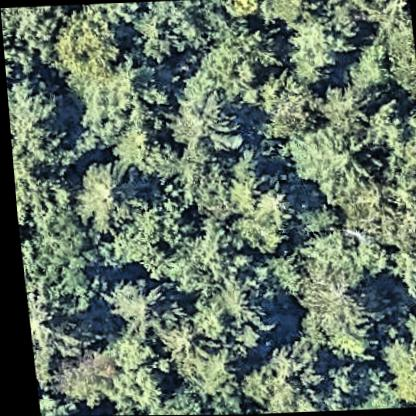tree-top: (16, 208, 100, 310), (155, 222, 261, 300), (102, 196, 195, 277), (75, 69, 171, 147), (183, 25, 274, 100), (231, 337, 317, 415), (5, 75, 70, 175), (166, 85, 242, 165), (292, 270, 374, 344), (181, 285, 273, 350), (48, 4, 127, 79), (285, 124, 366, 197), (253, 70, 327, 144), (187, 151, 262, 222), (360, 97, 416, 190), (45, 340, 118, 409), (75, 161, 141, 234), (231, 186, 296, 256), (123, 7, 187, 78), (0, 5, 62, 71), (284, 18, 354, 75), (11, 166, 74, 227), (316, 362, 392, 411), (22, 303, 90, 357), (108, 274, 164, 338), (168, 0, 243, 46), (315, 81, 374, 139), (176, 337, 236, 394), (364, 192, 416, 255), (143, 140, 206, 188), (96, 366, 158, 414), (381, 16, 416, 99), (347, 33, 396, 87), (326, 0, 411, 29), (376, 244, 416, 299), (380, 349, 416, 408), (259, 0, 320, 30), (397, 305, 416, 342)
